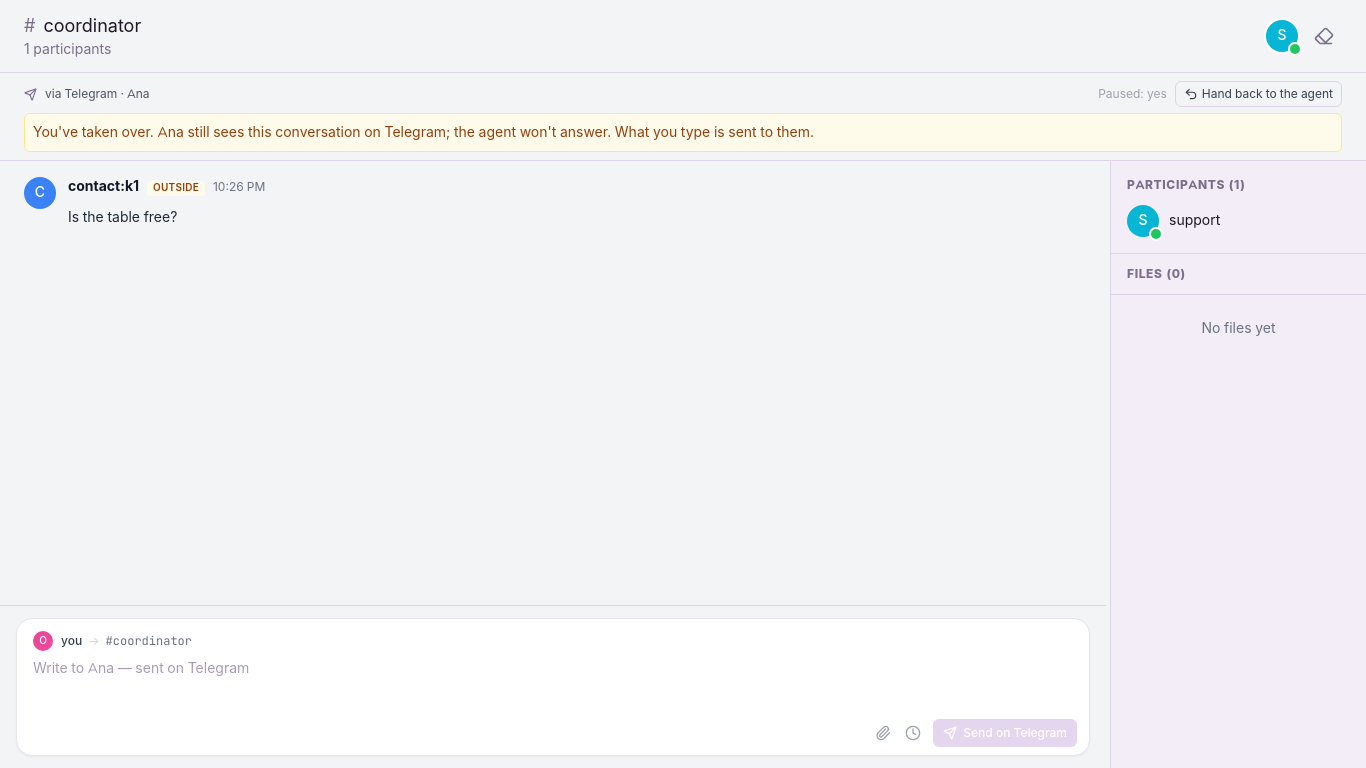
Scenario: Take over / Hand back › Hand back un-pauses and says what happens next
Click the button "Hand back to the agent".
click(1258, 94)  # box [1175,81,1342,107]
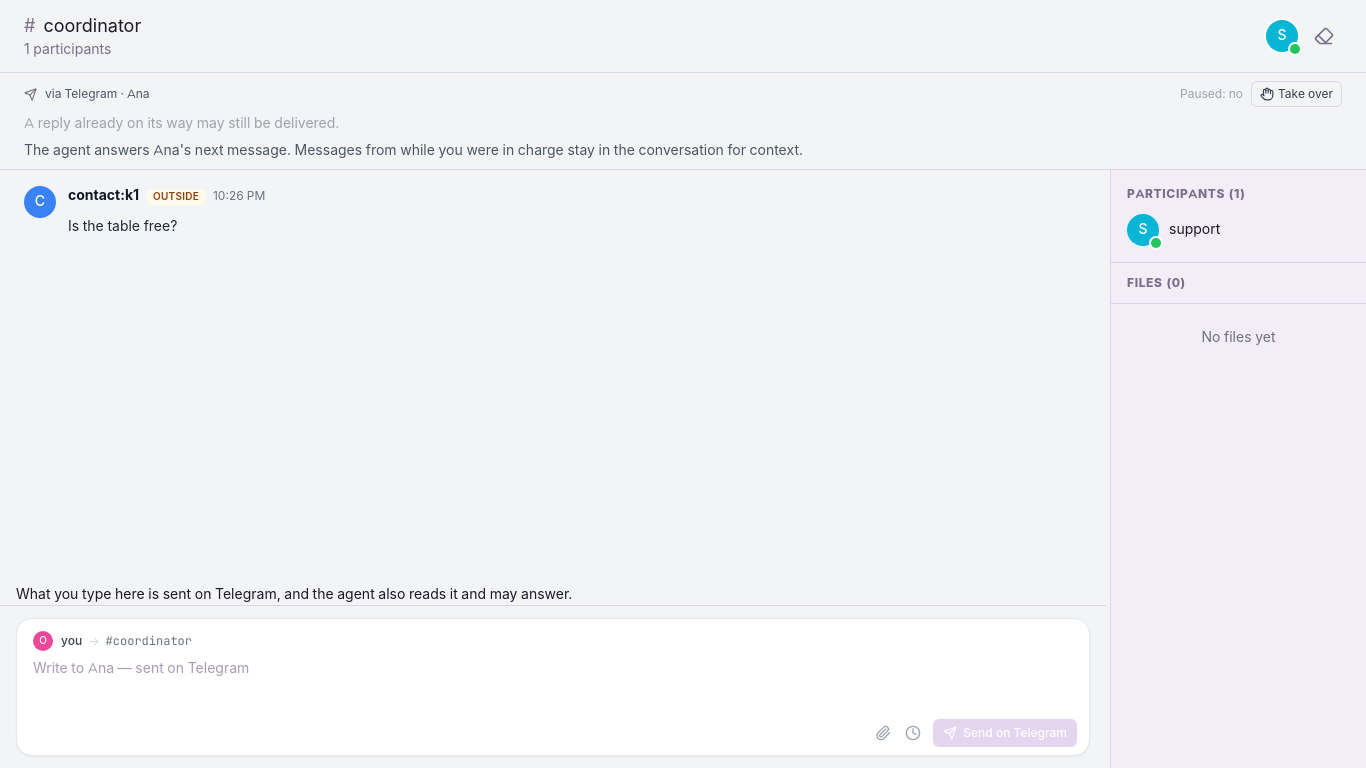
Check: the message with test id "channel-paused-banner" is gone
